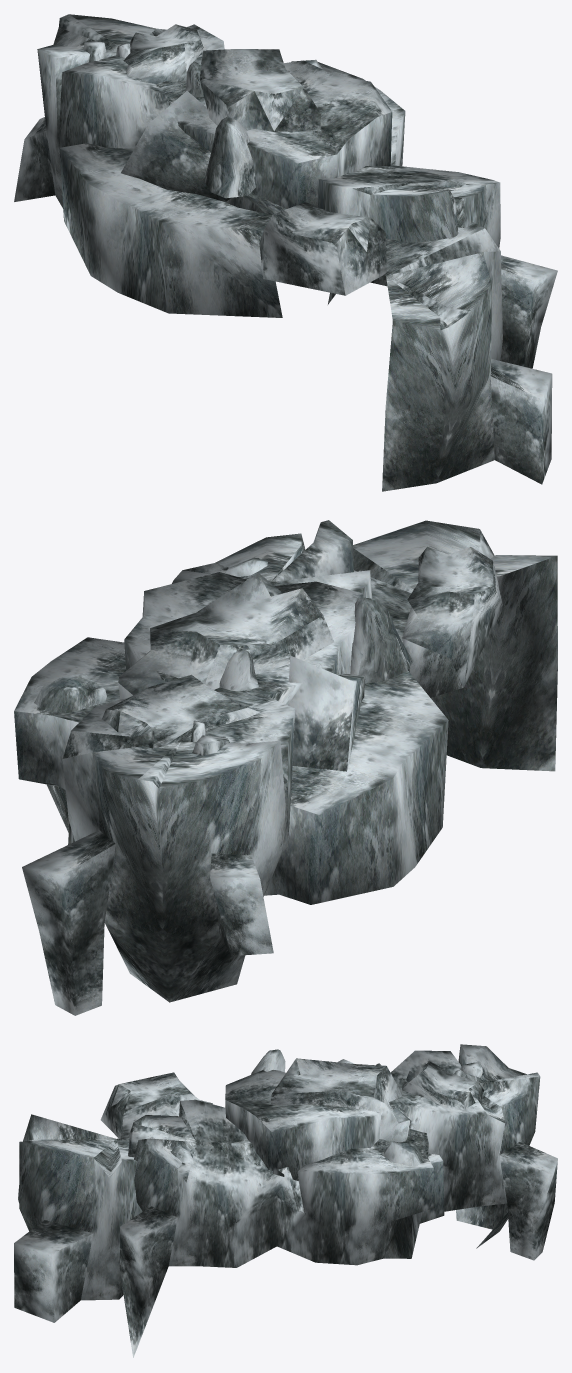
The model's file is S_Rock_White046_A2.FBX.
3 views of the same model, one above another, from view 1: azimuth 30°, elevation 25°; view 2: azimuth 150°, elevation 25°; view 3: azimuth 270°, elevation 25° (orthographic). The views are drawn at different scales.
Parts seen in each view (by area): view 1: S_Rock_White046_A2; view 2: S_Rock_White046_A2; view 3: S_Rock_White046_A2.
Part boxes in pixels (x1,y1,x2,y2): S_Rock_White046_A2: (14, 14, 557, 491); S_Rock_White046_A2: (14, 520, 557, 1015); S_Rock_White046_A2: (14, 1044, 557, 1357).
Size of the model in its own units: 620 by 607 by 1225.
